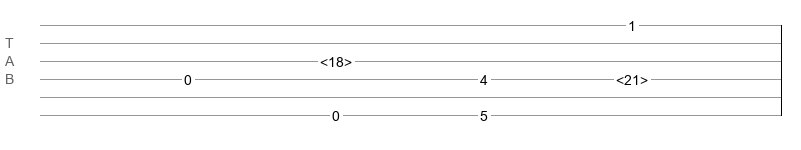0: (184, 72, 192, 82), (332, 108, 340, 118)
1: (628, 18, 636, 28)
4: (480, 72, 488, 82)
5: (480, 108, 488, 118)
harmonic: (320, 54, 352, 64), (616, 72, 648, 82)
